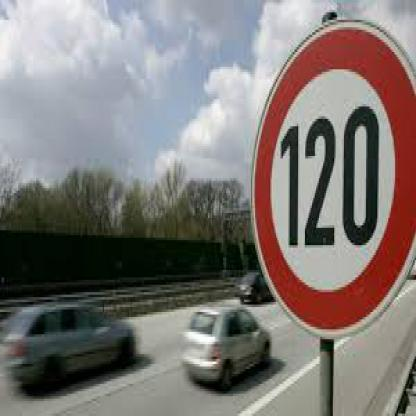Speed Limit 120: (252, 26, 416, 334)
